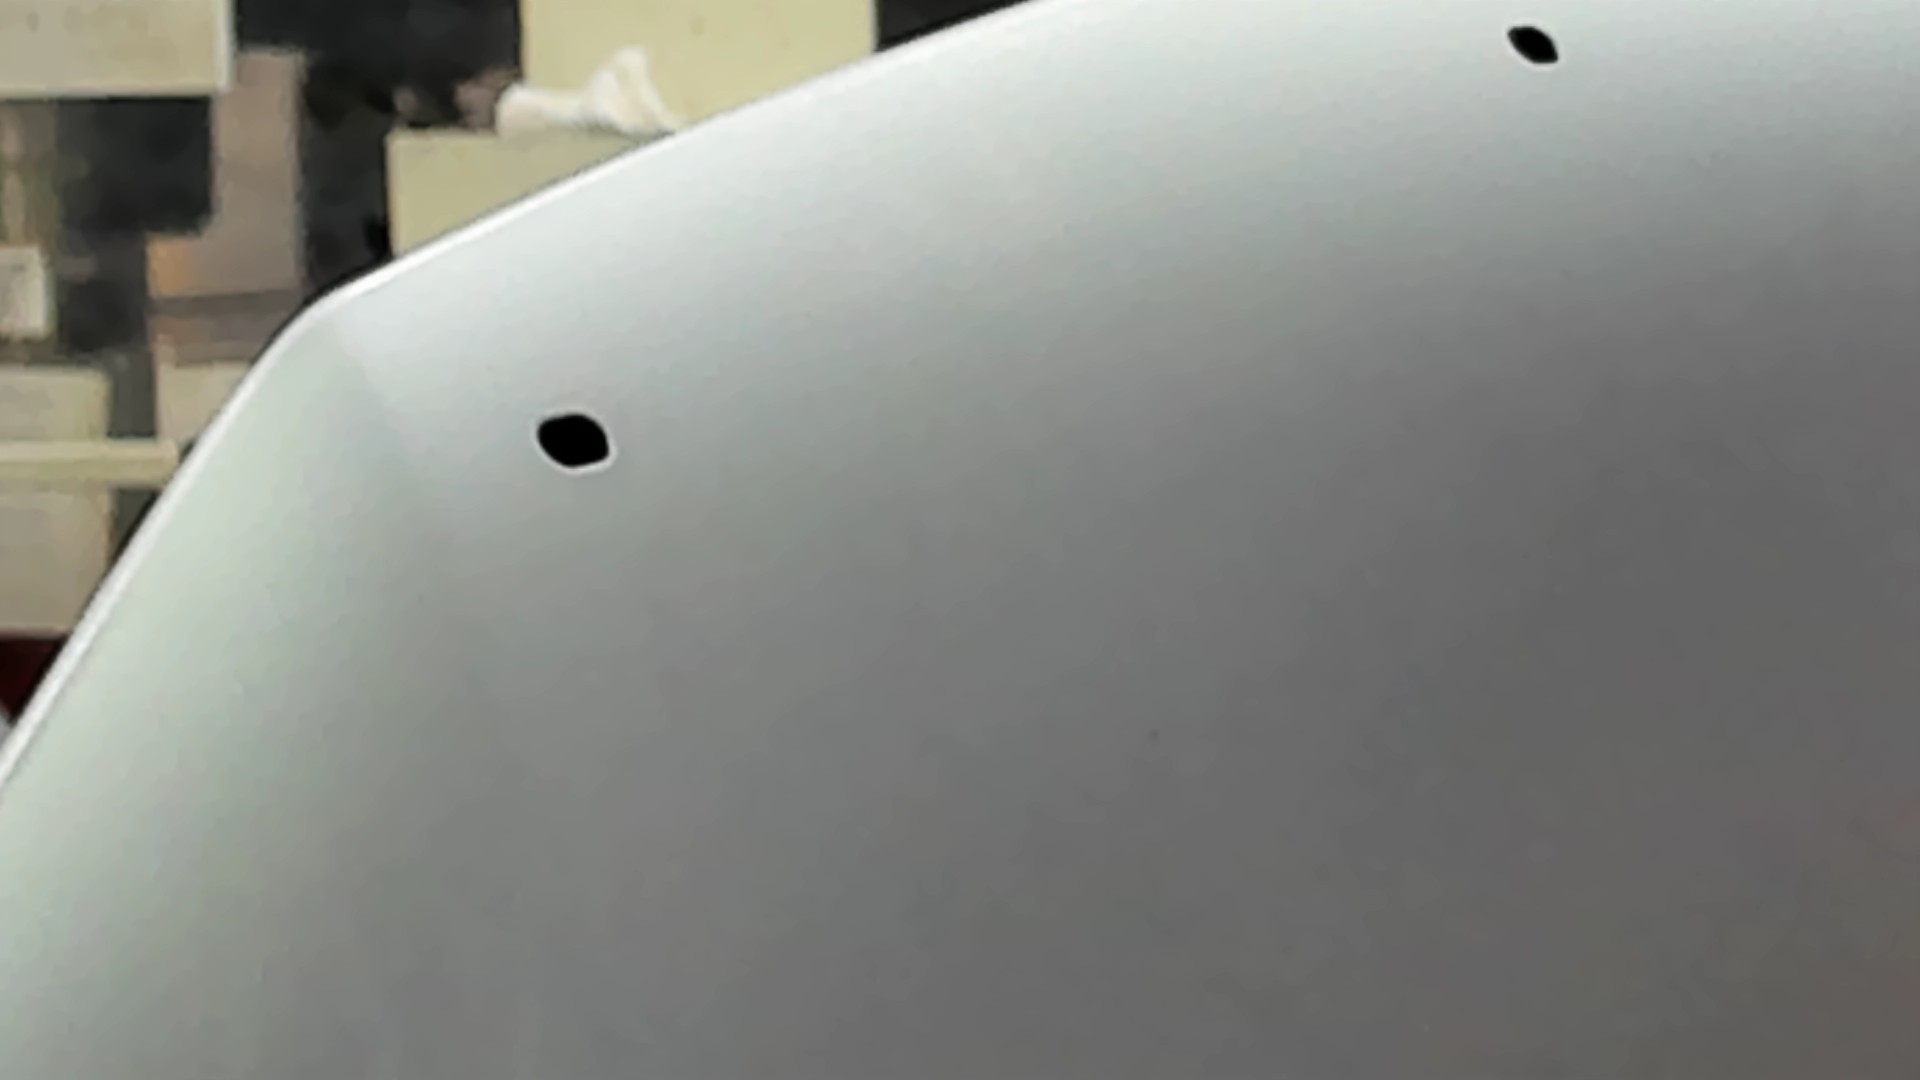amorfo: (524, 405, 622, 477), (1505, 17, 1565, 73)
